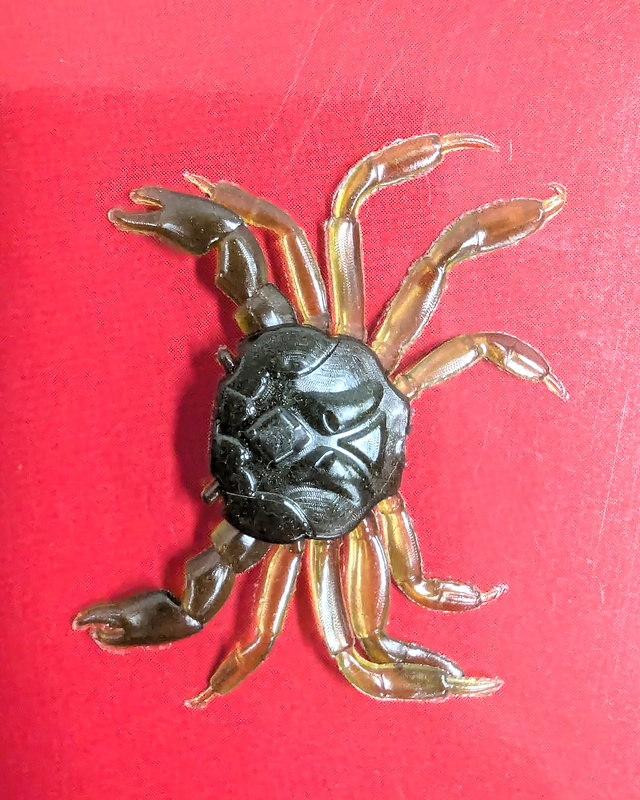crab2: (71, 130, 573, 711)
